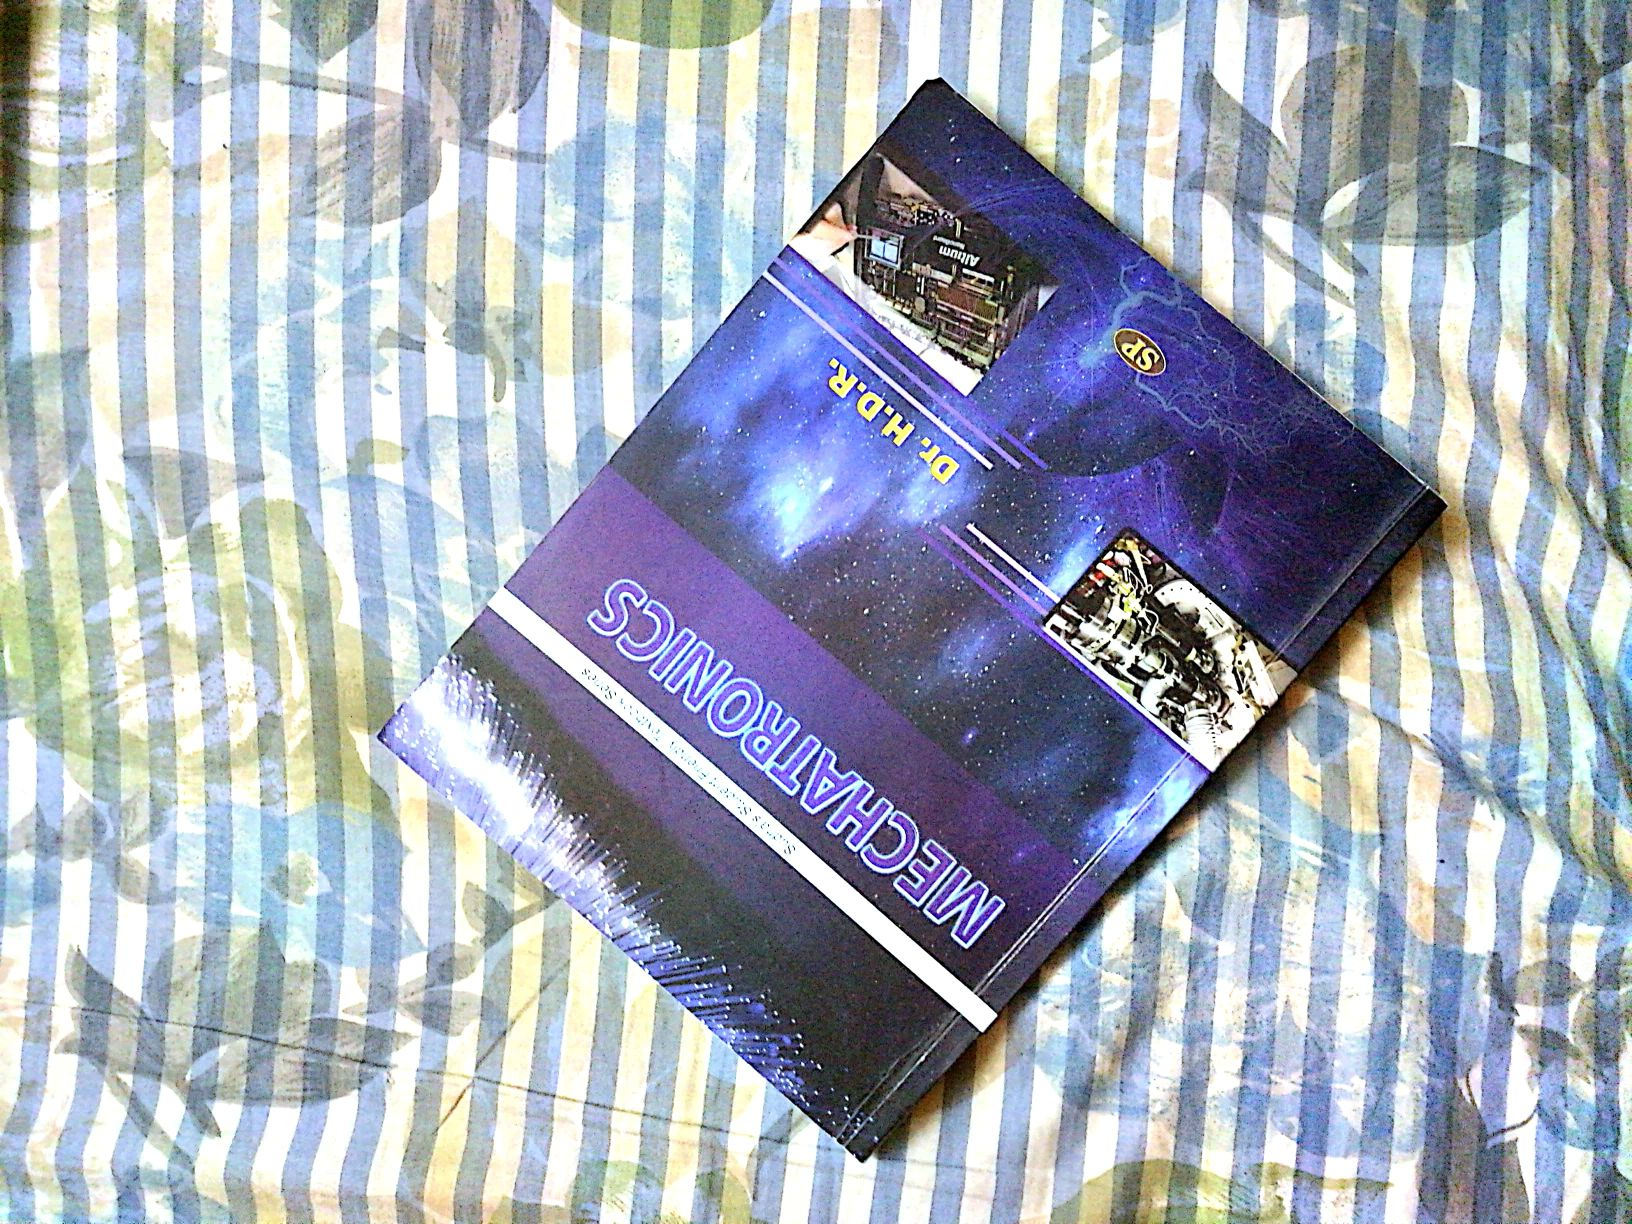mechatronics: (329, 113, 1461, 1119)
